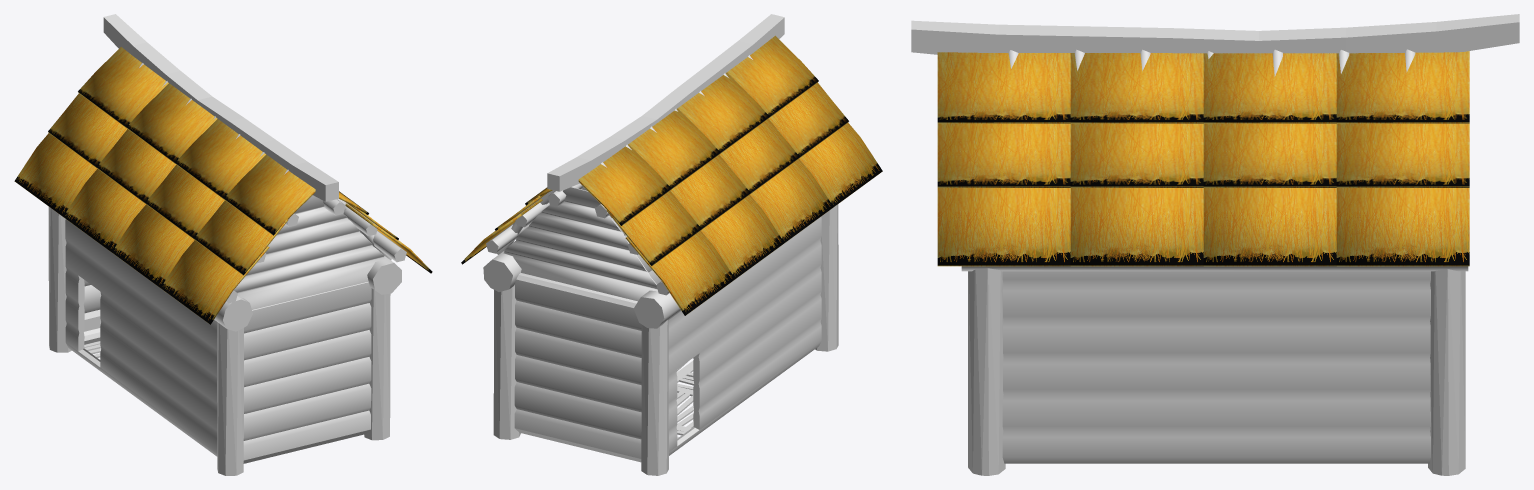
The model's file is Blockhütte.fbx.
The picture shows the model from 3 angles, left to right: view 1: azimuth 30°, elevation 25°; view 2: azimuth 150°, elevation 25°; view 3: azimuth 270°, elevation 25°; orthographic projection. The views are drawn at different scales.
Visible parts, largest first — view 1: Plane.004, Walls, Cube, Plane, Cube.002, Circle, Cylinder.004, Plane.005; view 2: Plane.004, Walls, Cube, Plane, Cube.002, Circle, Cylinder.004, Cube.001, Plane.005; view 3: Plane.005, Walls, Cube.002, Cube, Circle, Cylinder.001.
Boxes of the visible parts, x1,y1,x2,y2 form: Plane.004: [14, 47, 315, 324]; Walls: [65, 219, 371, 463]; Cube: [48, 207, 390, 475]; Plane: [234, 195, 385, 309]; Cube.002: [103, 14, 338, 201]; Circle: [214, 256, 401, 331]; Cylinder.004: [323, 199, 406, 262]; Plane.005: [339, 191, 432, 273]; Plane.004: [578, 35, 882, 315]; Walls: [514, 215, 821, 462]; Cube: [493, 204, 838, 475]; Plane: [503, 187, 657, 301]; Cube.002: [547, 14, 784, 191]; Circle: [483, 215, 681, 328]; Cylinder.004: [486, 183, 584, 253]; Cube.001: [676, 357, 693, 438]; Plane.005: [461, 187, 552, 264]; Plane.005: [937, 51, 1469, 266]; Walls: [1002, 271, 1430, 463]; Cube.002: [911, 14, 1519, 54]; Cube: [968, 268, 1465, 475]; Circle: [961, 266, 1468, 271]; Cylinder.001: [1008, 49, 1415, 76].
Size of the model in its own units: 530 by 667 by 914.
